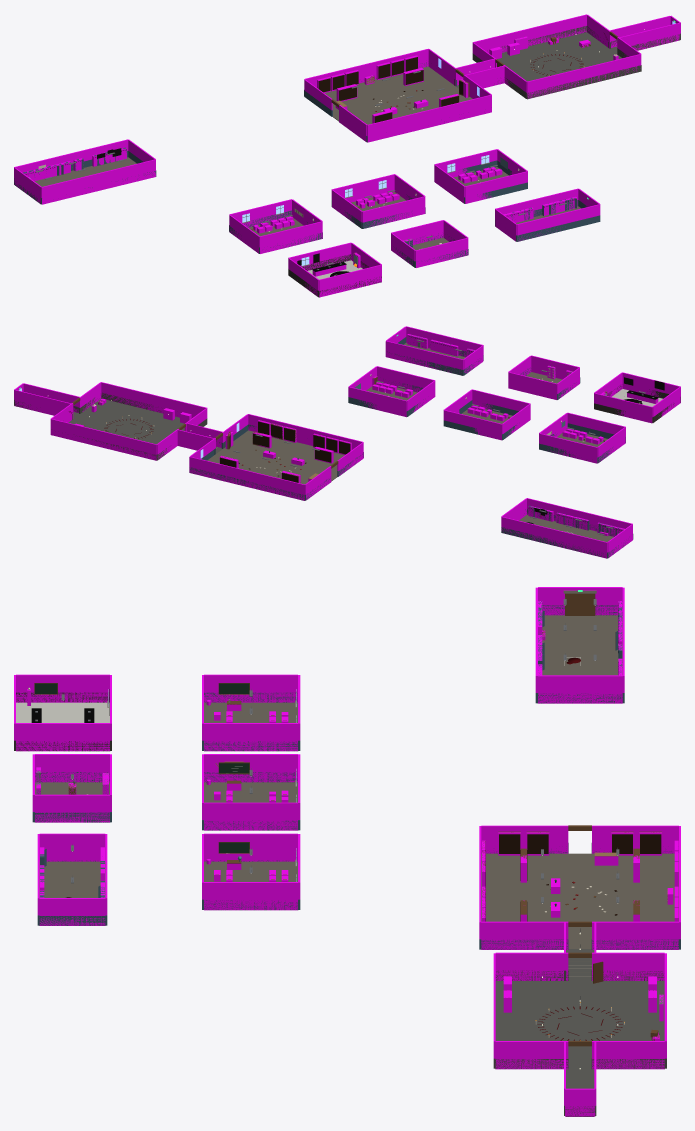
File: escola.glb
3 renders of one model, top to bottom at view 1: azimuth 30°, elevation 25°; view 2: azimuth 150°, elevation 25°; view 3: azimuth 270°, elevation 25°, orthographic. The views are drawn at different scales.
Parts seen in each view (by area): view 1: FLOOR_biblio, FLOOR_bunker, COL_box_biblio_front, COL_box_corredor_front, COL_box_bunker_front, static_MAT_CLOTH_books_mansao, COL_box_bunker_back, COL_box_lab_front, COL_box_historia_front, COL_box_matematica_front, COL_box_fundos_front, COL_box_arquivos_front (+28 smaller); view 2: FLOOR_biblio, FLOOR_bunker, COL_box_biblio_back, COL_box_bunker_back, COL_box_corredor_back, COL_box_bunker_front, static_MAT_CLOTH_books_mansao, COL_box_fundos_back, COL_box_historia_back, COL_box_corredor_front, COL_box_geografia_back, COL_box_biblio_front (+28 smaller); view 3: FLOOR_biblio, FLOOR_bunker, FLOOR_corredor, COL_box_matematica_R, COL_box_geografia_R, COL_box_lab_R, COL_box_historia_R, static_MAT_CLOTH_wood_escola, COL_box_biblio_Rb, COL_box_biblio_Ra, COL_box_corredor_R, COL_box_lab_L (+23 smaller).
Boxes of the visible parts, x1=… form: FLOOR_biblio: x1=324, y1=66, x2=472, y2=124; FLOOR_bunker: x1=497, y1=32, x2=621, y2=81; COL_box_biblio_front: x1=367, y1=95, x2=491, y2=142; COL_box_corredor_front: x1=41, y1=159, x2=155, y2=204; COL_box_bunker_front: x1=526, y1=54, x2=641, y2=98; static_MAT_CLOTH_books_mansao: x1=318, y1=57, x2=463, y2=122; COL_box_bunker_back: x1=472, y1=14, x2=586, y2=53; COL_box_lab_front: x1=318, y1=264, x2=381, y2=297; COL_box_historia_front: x1=259, y1=221, x2=322, y2=253; COL_box_matematica_front: x1=362, y1=196, x2=425, y2=226; COL_box_fundos_front: x1=516, y1=204, x2=600, y2=241; COL_box_arquivos_front: x1=415, y1=238, x2=468, y2=267; FLOOR_biblio: x1=207, y1=430, x2=344, y2=484; FLOOR_bunker: x1=68, y1=398, x2=184, y2=444; COL_box_biblio_back: x1=189, y1=456, x2=305, y2=500; COL_box_bunker_back: x1=50, y1=418, x2=156, y2=460; COL_box_corredor_back: x1=501, y1=516, x2=607, y2=558; COL_box_bunker_front: x1=101, y1=382, x2=206, y2=418; static_MAT_CLOTH_books_mansao: x1=220, y1=421, x2=350, y2=482; COL_box_fundos_back: x1=385, y1=341, x2=463, y2=372; COL_box_historia_back: x1=539, y1=433, x2=597, y2=463; COL_box_corredor_front: x1=527, y1=498, x2=632, y2=531; COL_box_geografia_back: x1=348, y1=386, x2=407, y2=416; COL_box_biblio_front: x1=248, y1=414, x2=363, y2=449; FLOOR_biblio: x1=481, y1=853, x2=678, y2=948; FLOOR_bunker: x1=495, y1=981, x2=664, y2=1068; FLOOR_corredor: x1=542, y1=615, x2=622, y2=675; COL_box_matematica_R: x1=204, y1=802, x2=297, y2=830; COL_box_geografia_R: x1=204, y1=882, x2=297, y2=910; COL_box_lab_R: x1=16, y1=723, x2=109, y2=751; COL_box_historia_R: x1=204, y1=723, x2=297, y2=751; static_MAT_CLOTH_wood_escola: x1=34, y1=593, x2=661, y2=1046; COL_box_biblio_Rb: x1=481, y1=921, x2=568, y2=949; COL_box_biblio_Ra: x1=592, y1=921, x2=678, y2=949; COL_box_corredor_R: x1=538, y1=675, x2=622, y2=703; COL_box_lab_L: x1=16, y1=674, x2=109, y2=702.
Size of the model in its own units: 126 by 3.46 by 70.94.
